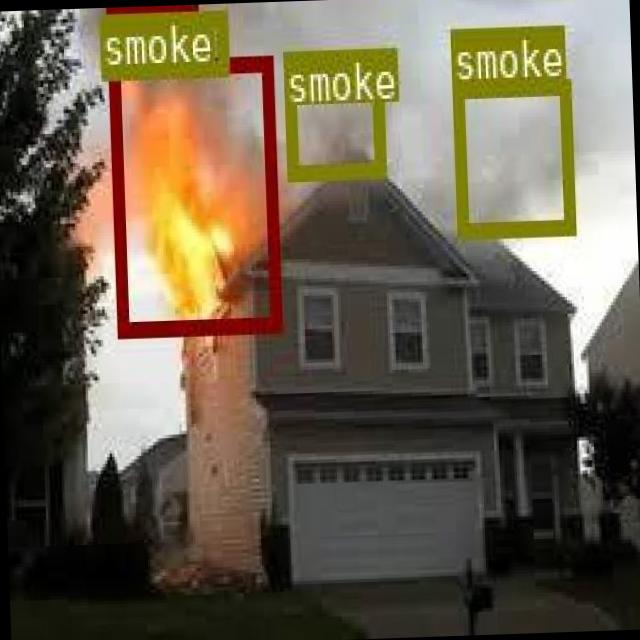fire: (104, 52, 280, 336)
smoke: (452, 75, 572, 235), (281, 47, 384, 176), (98, 10, 225, 76)
